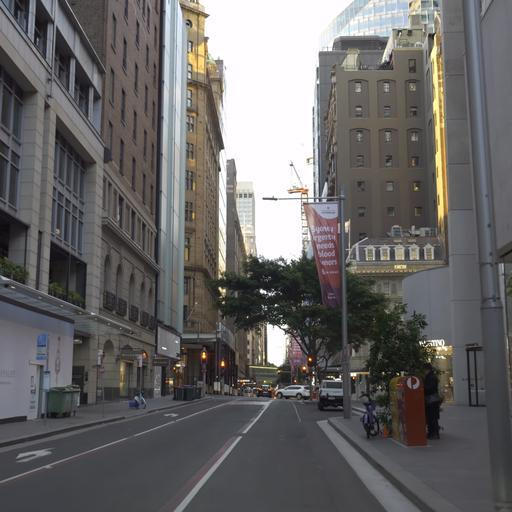Street light: (261, 192, 351, 418)
